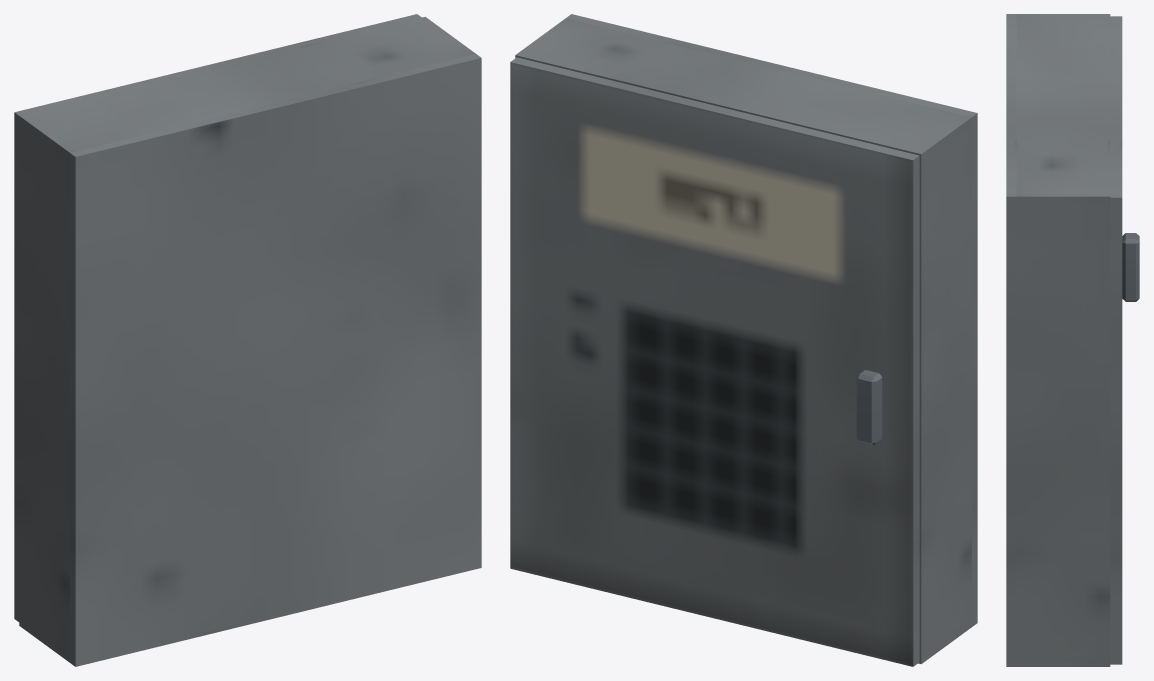
File: key_cabinet.fbx
3 renders of one model, left to right at view 1: azimuth 30°, elevation 25°; view 2: azimuth 150°, elevation 25°; view 3: azimuth 270°, elevation 25°, orthographic. The views are drawn at different scales.
Visible parts, largest first — view 1: key_cabinet, key_cabinet_door; view 2: key_cabinet_door, key_cabinet; view 3: key_cabinet, key_cabinet_door.
Boxes of the visible parts, x1=… form: key_cabinet: x1=19, y1=16, x2=481, y2=666; key_cabinet_door: x1=14, y1=14, x2=421, y2=621; key_cabinet_door: x1=510, y1=57, x2=919, y2=666; key_cabinet: x1=515, y1=14, x2=977, y2=664; key_cabinet: x1=1006, y1=14, x2=1110, y2=666; key_cabinet_door: x1=1110, y1=16, x2=1139, y2=664.
Bounding box in the file's own units: 0.5 × 0.6 × 0.154.
1 material, 1 textured.
